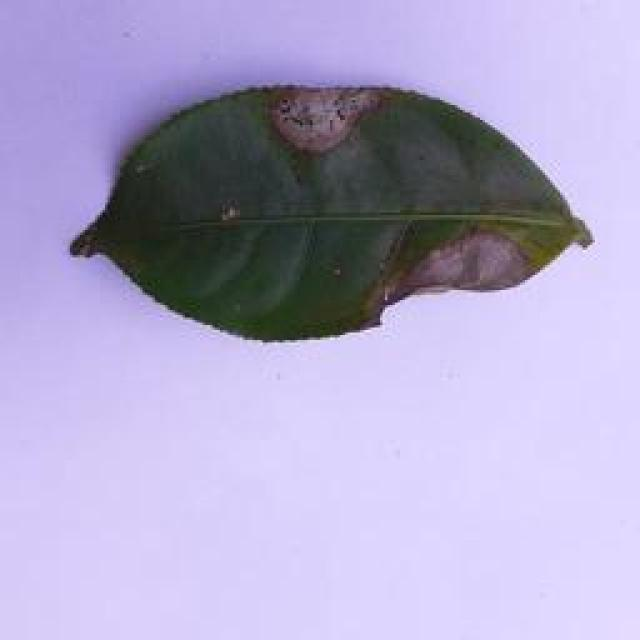Gray Blight: (63, 80, 592, 348)
